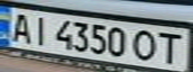0: (106, 25, 130, 58)
3: (69, 19, 90, 53)
4: (51, 17, 75, 51)
5: (87, 21, 109, 56)
A: (6, 10, 36, 44)
I: (27, 13, 54, 46)
O: (130, 27, 160, 62)
T: (154, 29, 187, 65)
